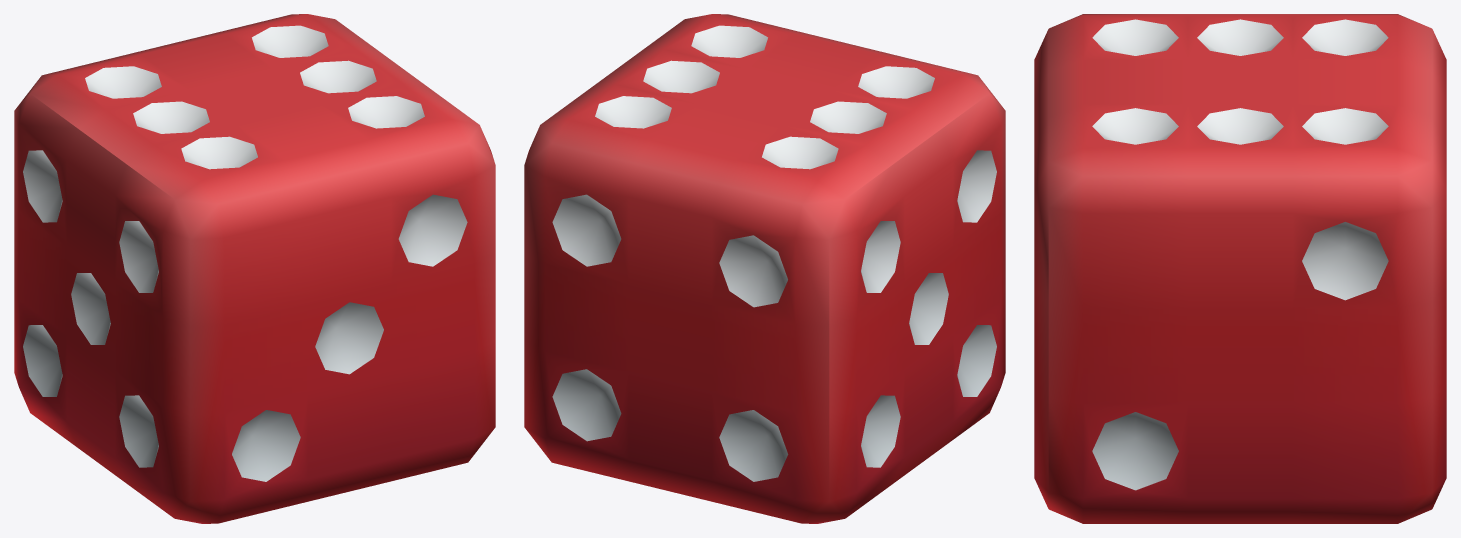
Rendered from d6-a-red.glb.
3 renders of one model, left to right at view 1: azimuth 30°, elevation 25°; view 2: azimuth 150°, elevation 25°; view 3: azimuth 270°, elevation 25°, orthographic. The views are drawn at different scales.
Parts seen in each view (by area): view 1: D6_A_red; view 2: D6_A_red; view 3: D6_A_red.
Part boxes in pixels (<box>): D6_A_red: <box>14,14,495,523</box>; D6_A_red: <box>524,14,1005,523</box>; D6_A_red: <box>1034,14,1446,523</box>.
Size of the model in its own units: 0.75 by 0.75 by 0.75.
1 material, 1 textured.
